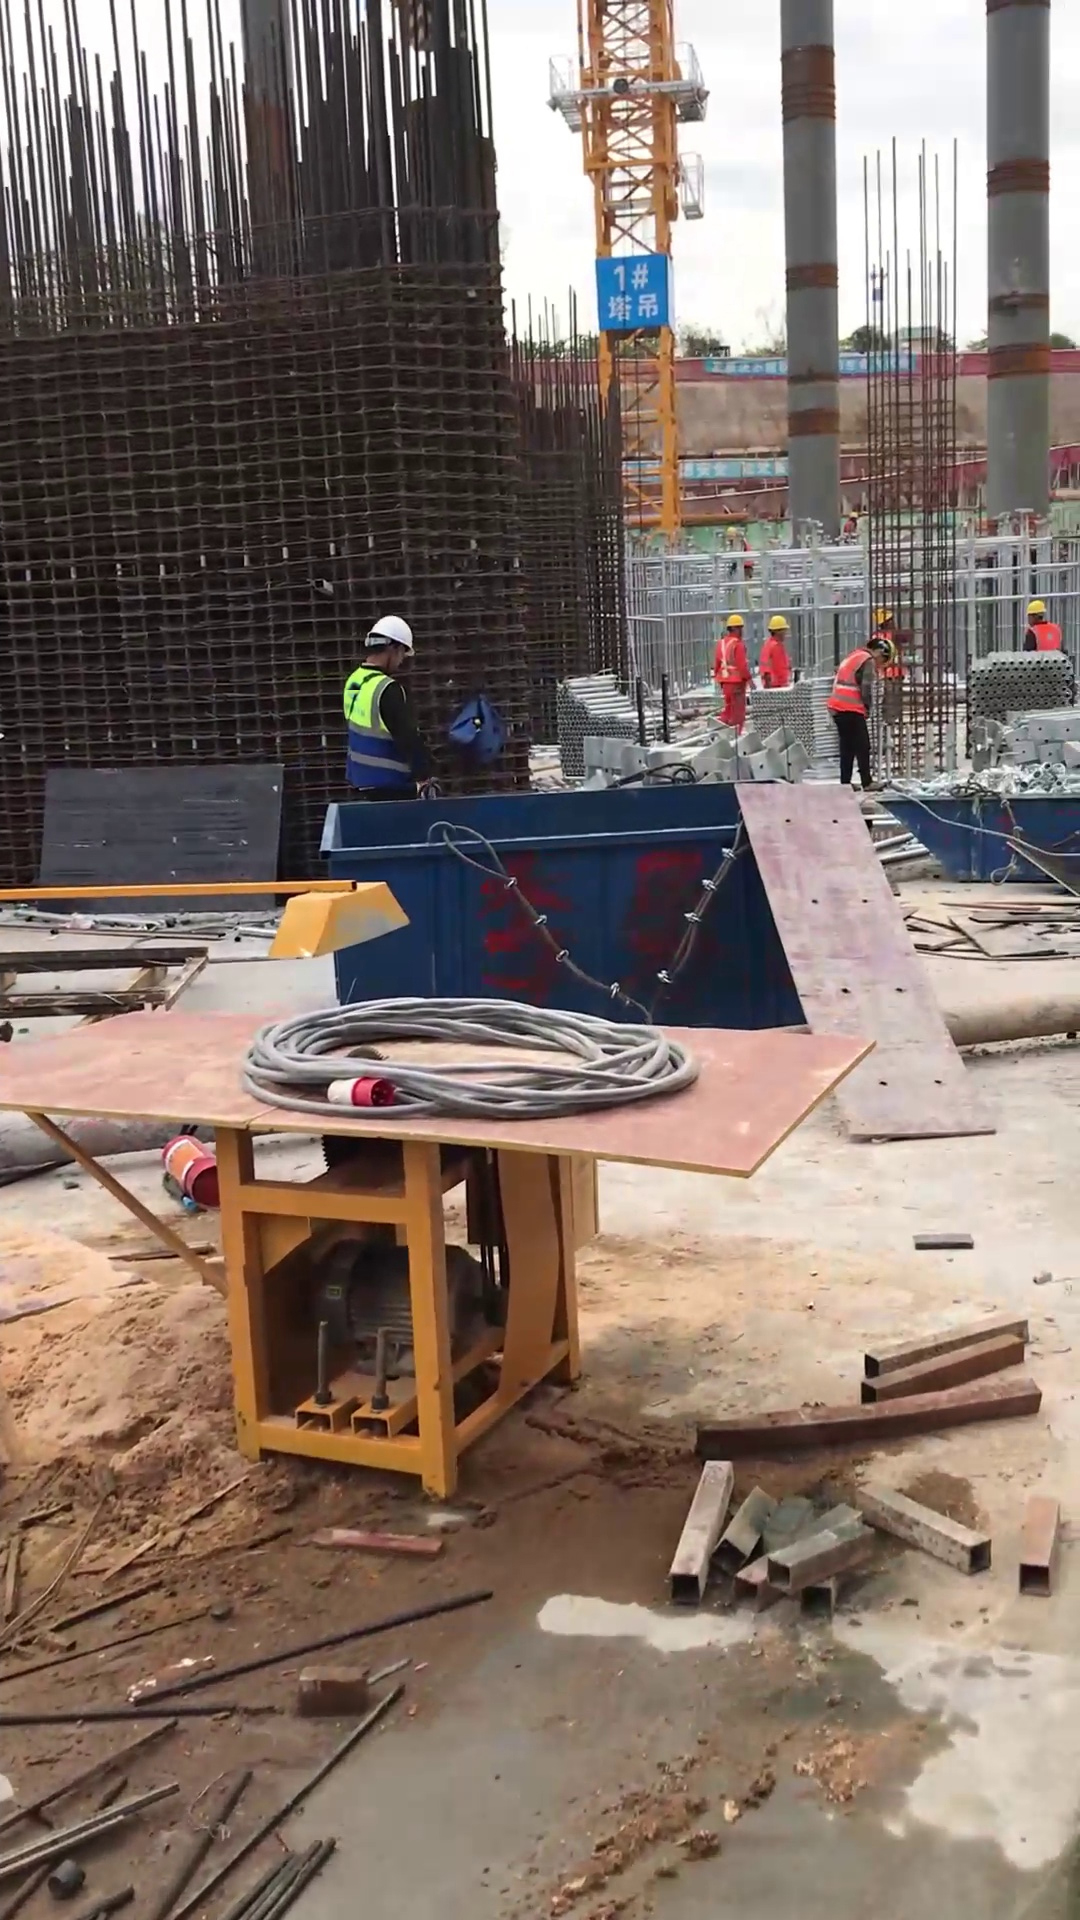helmet: (364, 611, 419, 662), (1017, 596, 1055, 622), (761, 611, 789, 639), (720, 607, 744, 635), (879, 635, 895, 668)
person: (334, 609, 444, 804), (823, 632, 901, 799), (701, 605, 760, 734), (749, 606, 803, 701), (1010, 589, 1070, 665)
vest: (338, 663, 419, 796), (827, 648, 877, 721), (710, 634, 745, 688), (762, 637, 792, 690), (1026, 616, 1067, 652)
